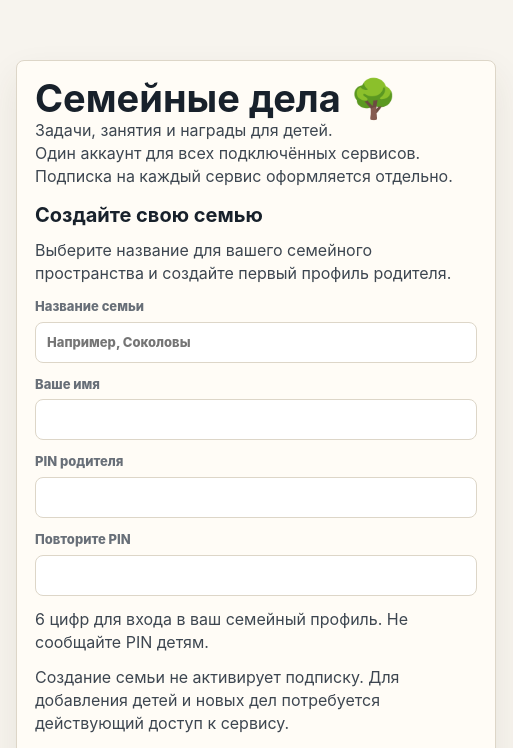
restores onboarding without redirecting and opens profile selection after creation
The image size is (513, 748).
Type "  Соколовы  " into the field labelled "Название семьи" at {"x": 256, "y": 342}, box [35,322,477,363]
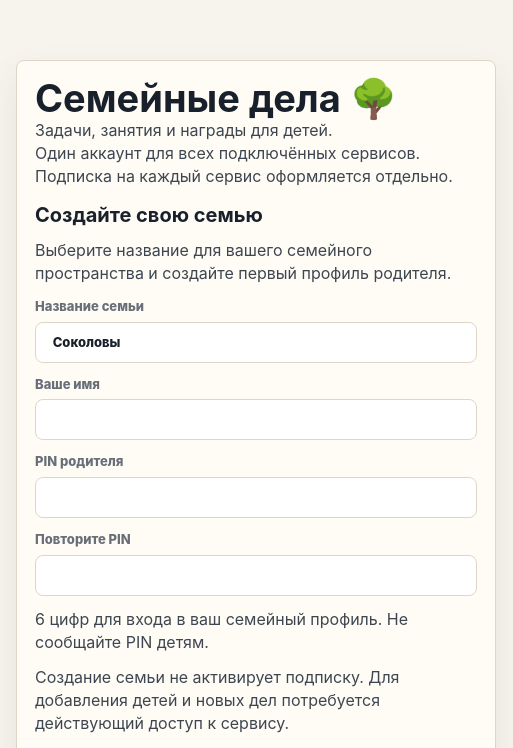
Type " Анна " into the field labelled "Ваше имя" at {"x": 256, "y": 420}, box [35,399,477,440]
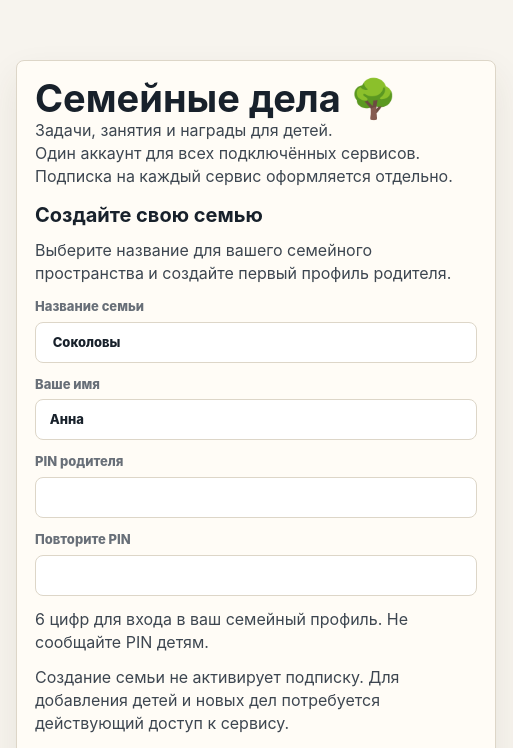
Type "739281" into the password field labelled "PIN родителя" at {"x": 256, "y": 498}, box [35,477,477,518]
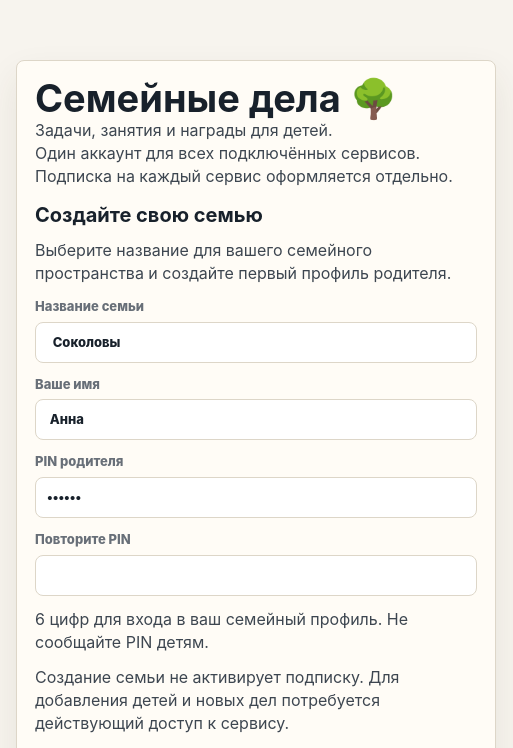
Type "739281" into the password field labelled "Повторите PIN" at {"x": 256, "y": 575}, box [35,555,477,596]
(page scrolled)
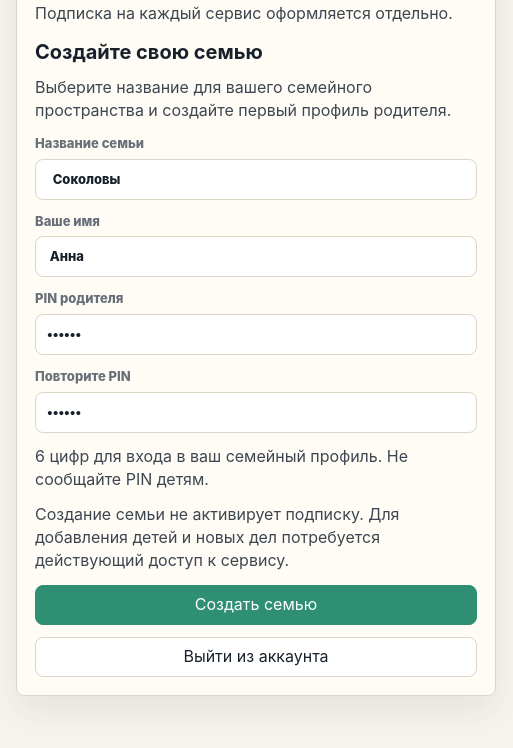
Click the button "Создать семью" at {"x": 256, "y": 605}, box [35,585,477,625]
(page scrolled)
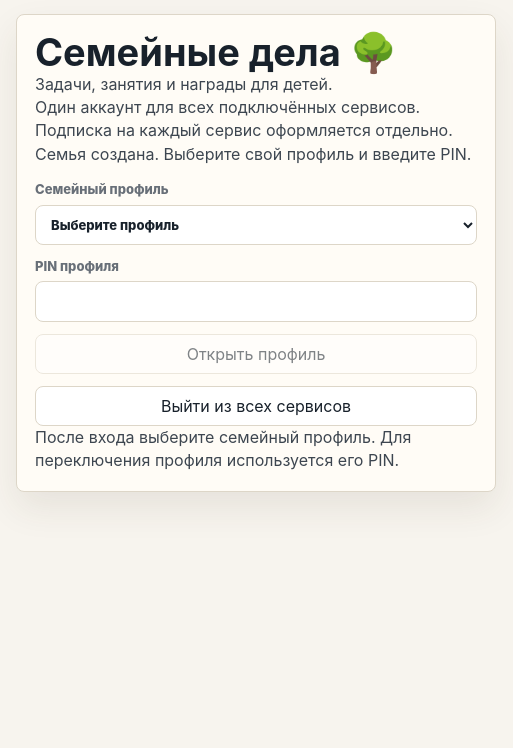
expect the dropdown labelled "Семейный профиль" is shown: met, box [35,205,477,245]
expect the label labelled "Название семьи" is gone: met
expect the text "Семья создана. Выберите свой профиль и введите PIN." is shown: met, box [35,142,477,166]
